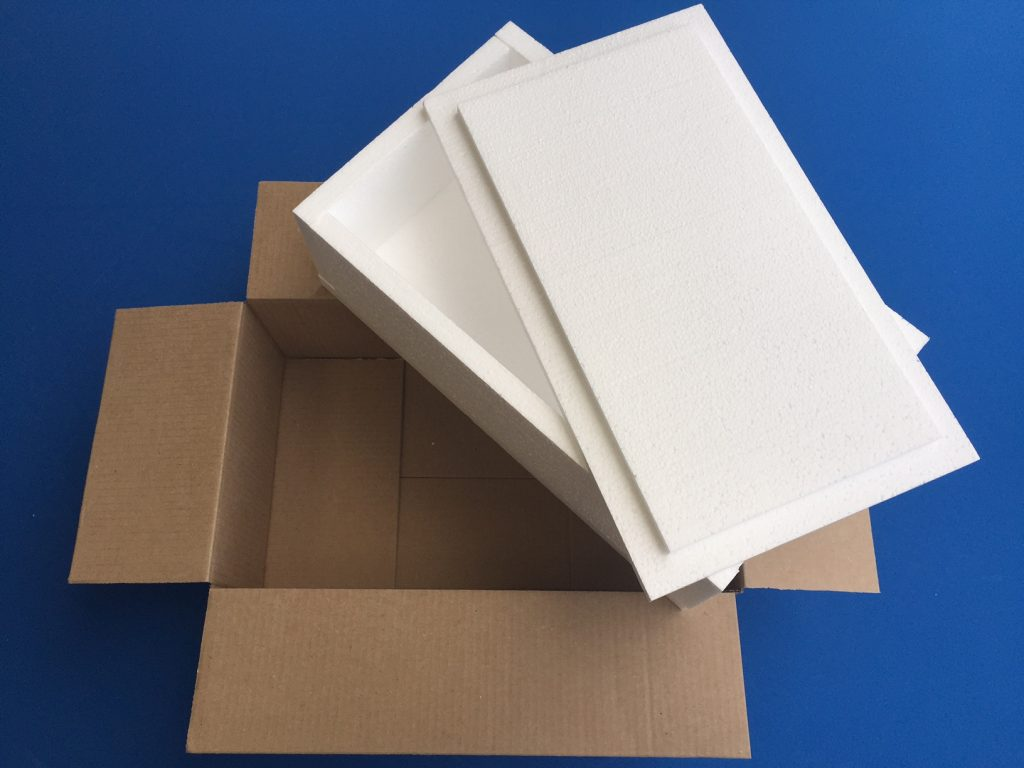泡沫箱: (296, 7, 977, 605)
